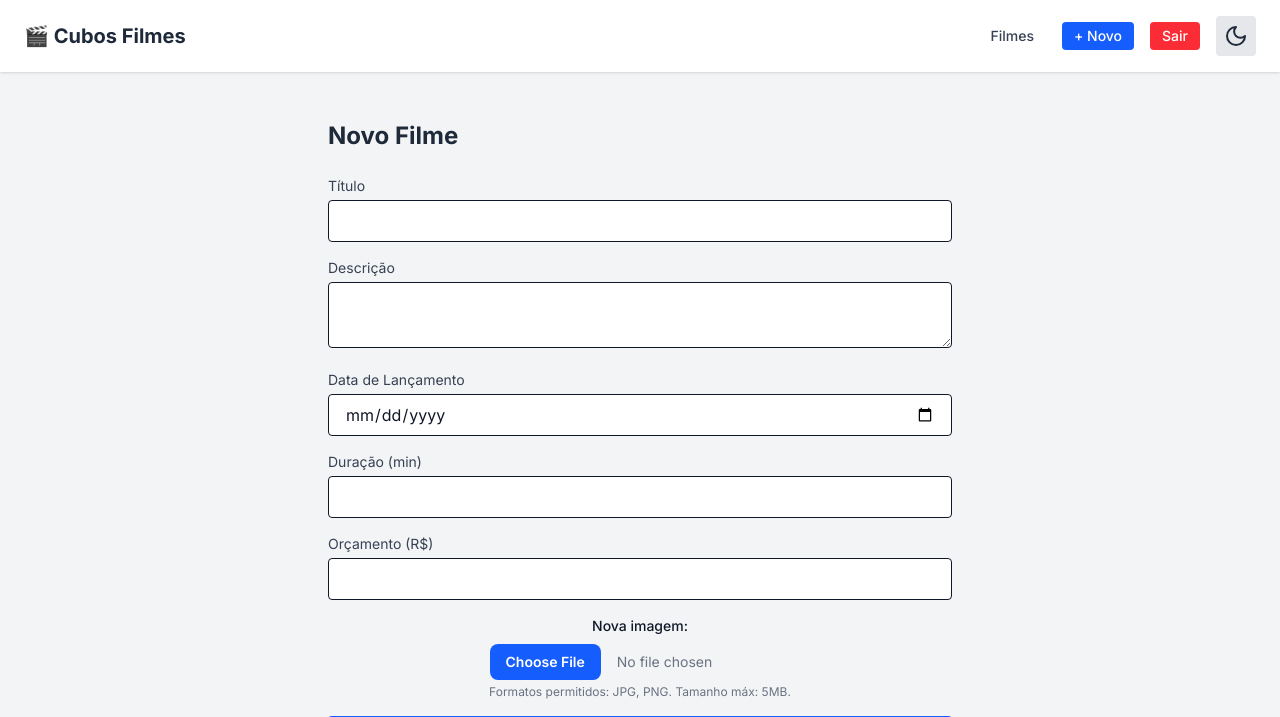
it: New Movie Page › Form Submission › should handle API errors
This screenshot has width=1280, height=717.
# Preenche o formulário
Type "Teste Movie" into the field named "title" at (640, 221), box [328, 200, 952, 242]
Type "Test Description" into the text box named "description" at (640, 315), box [328, 282, 952, 348]
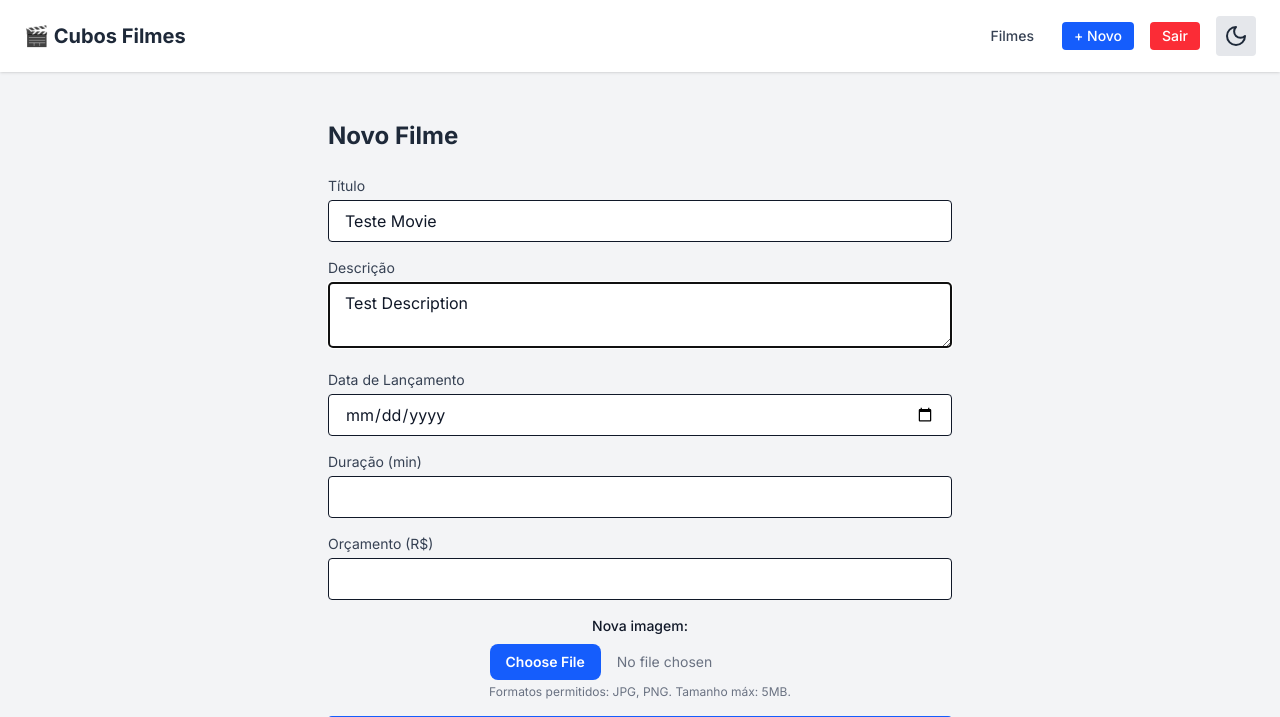
Type "2024-01-01" into the date field at (640, 415), box [328, 394, 952, 436]
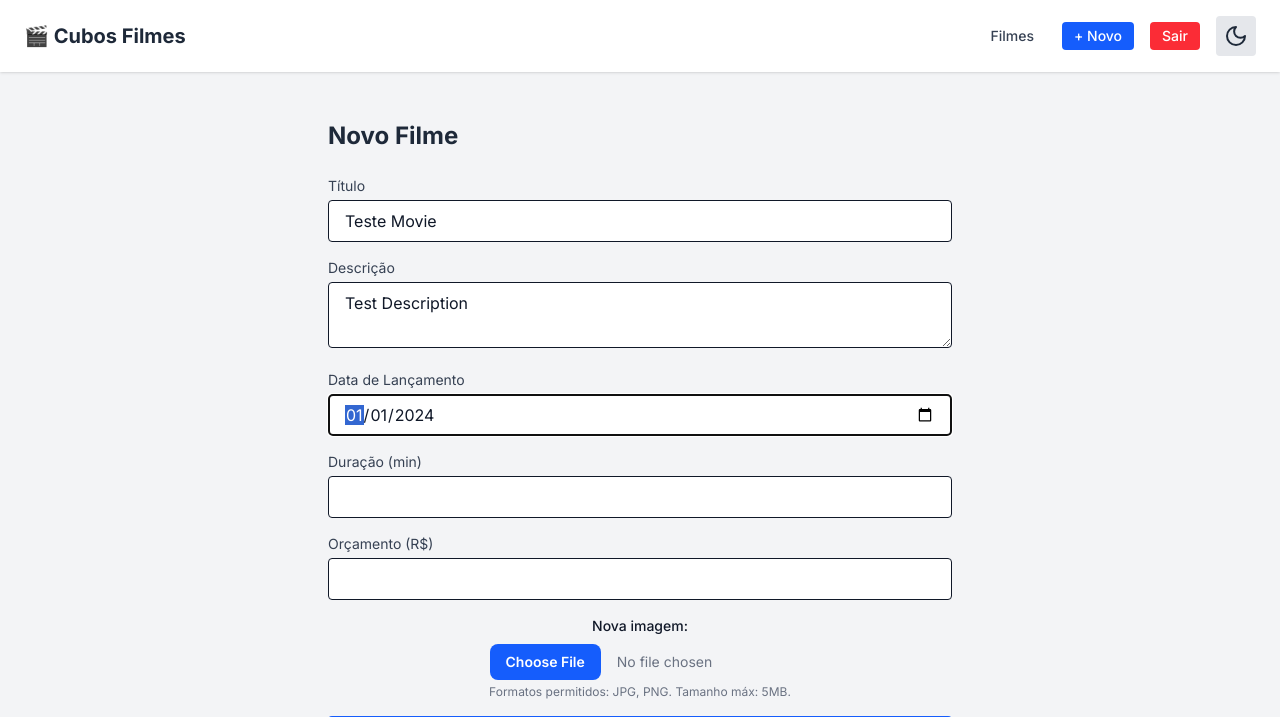
Type "120" into the number field named "duration" below "Duração (min)" at (640, 497), box [328, 476, 952, 518]
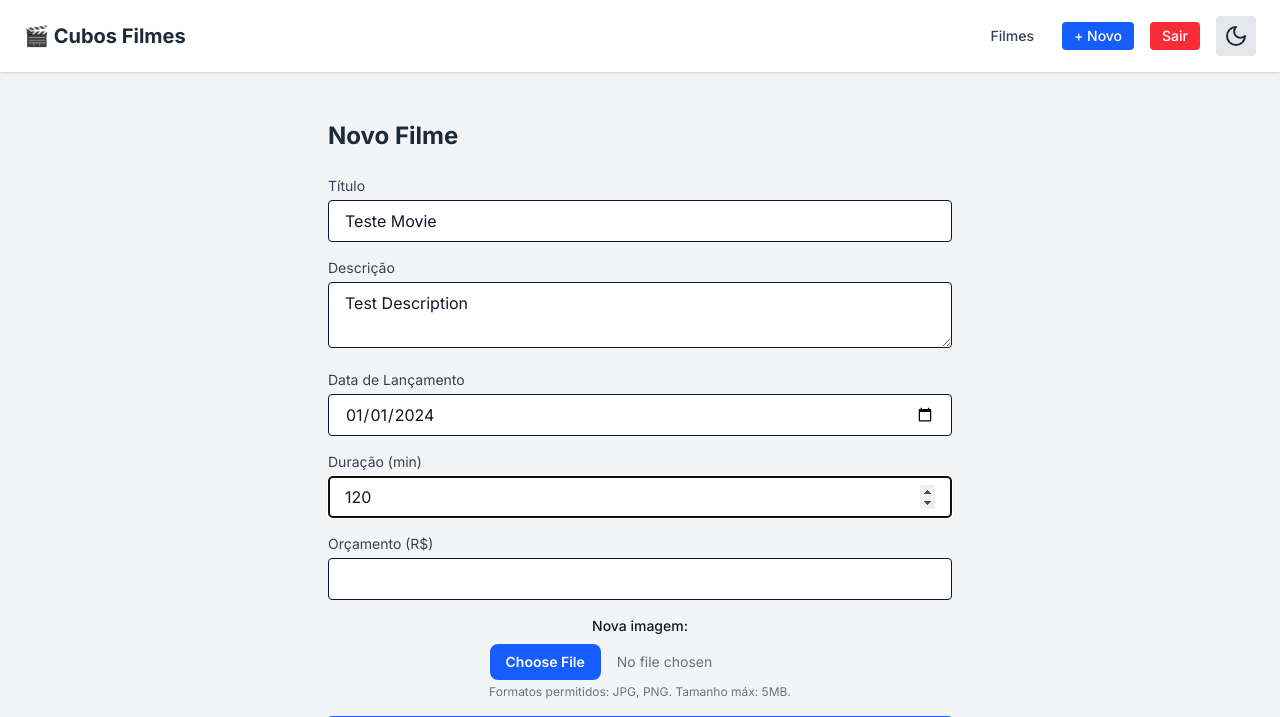
Type "1000000" into the number field named "budget" below "Orçamento (R$)" at (640, 579), box [328, 558, 952, 600]
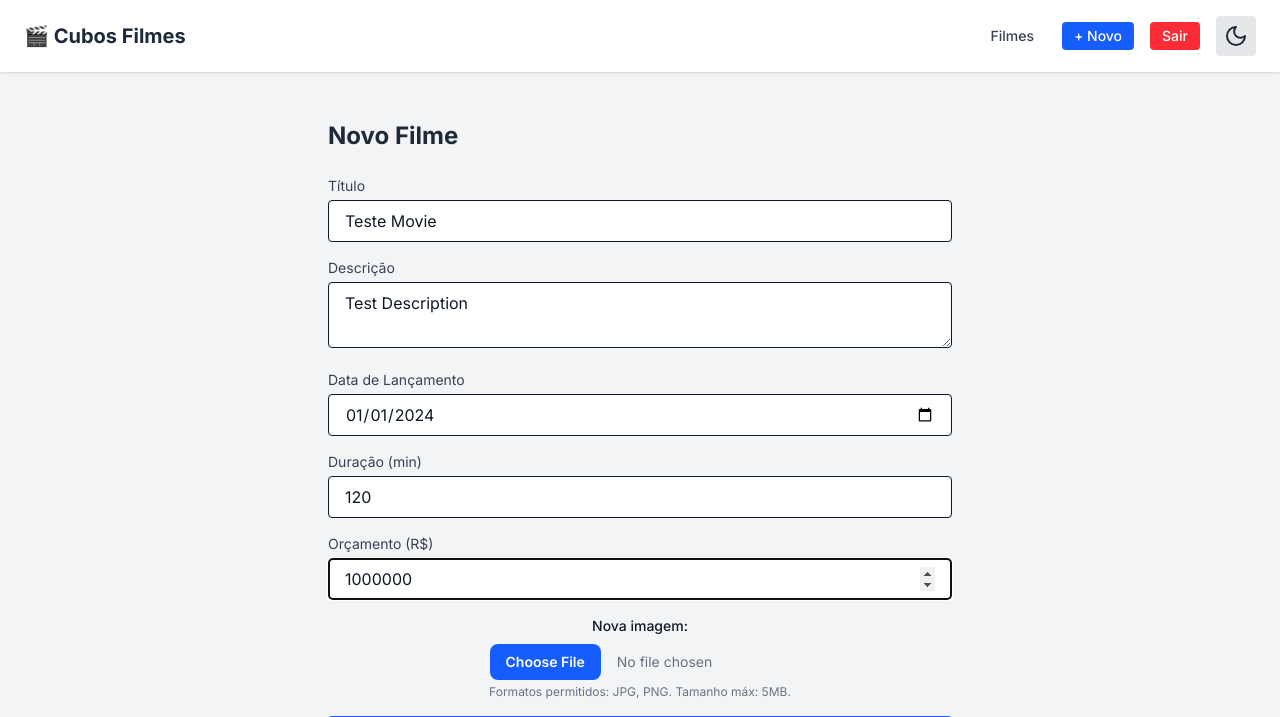
Scroll
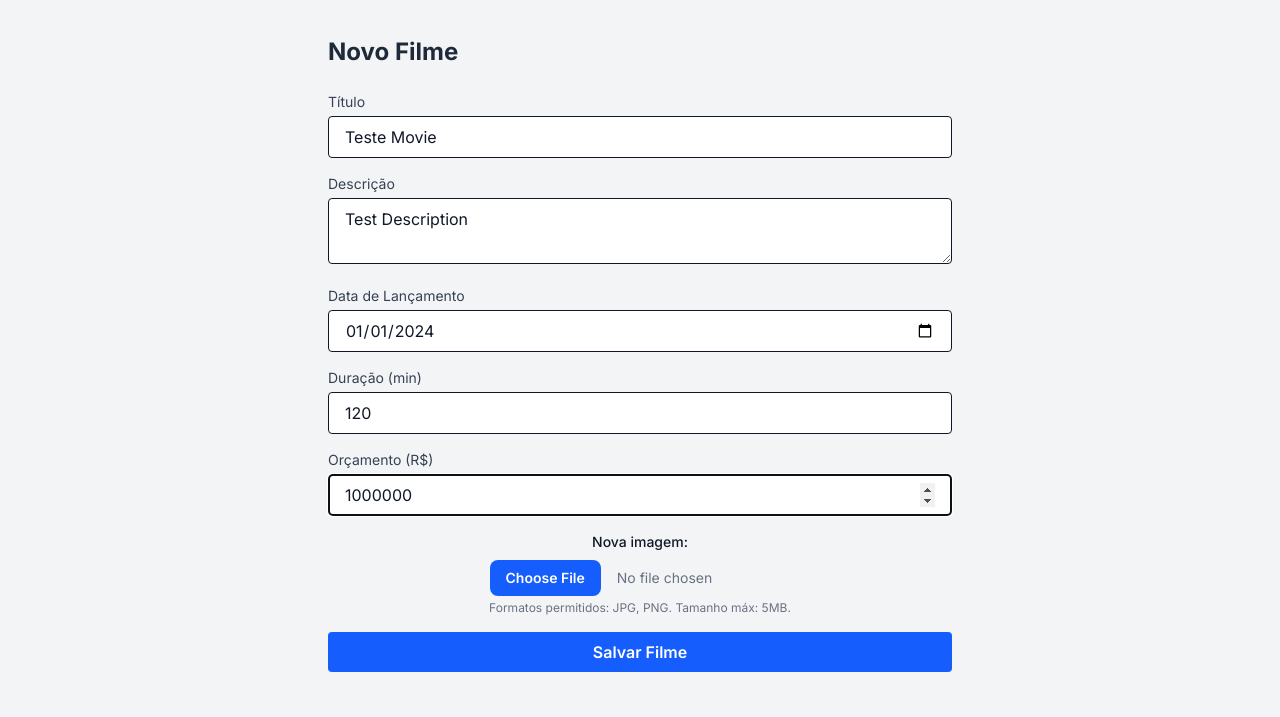
Click the submit button at (640, 652), box [328, 632, 952, 672]
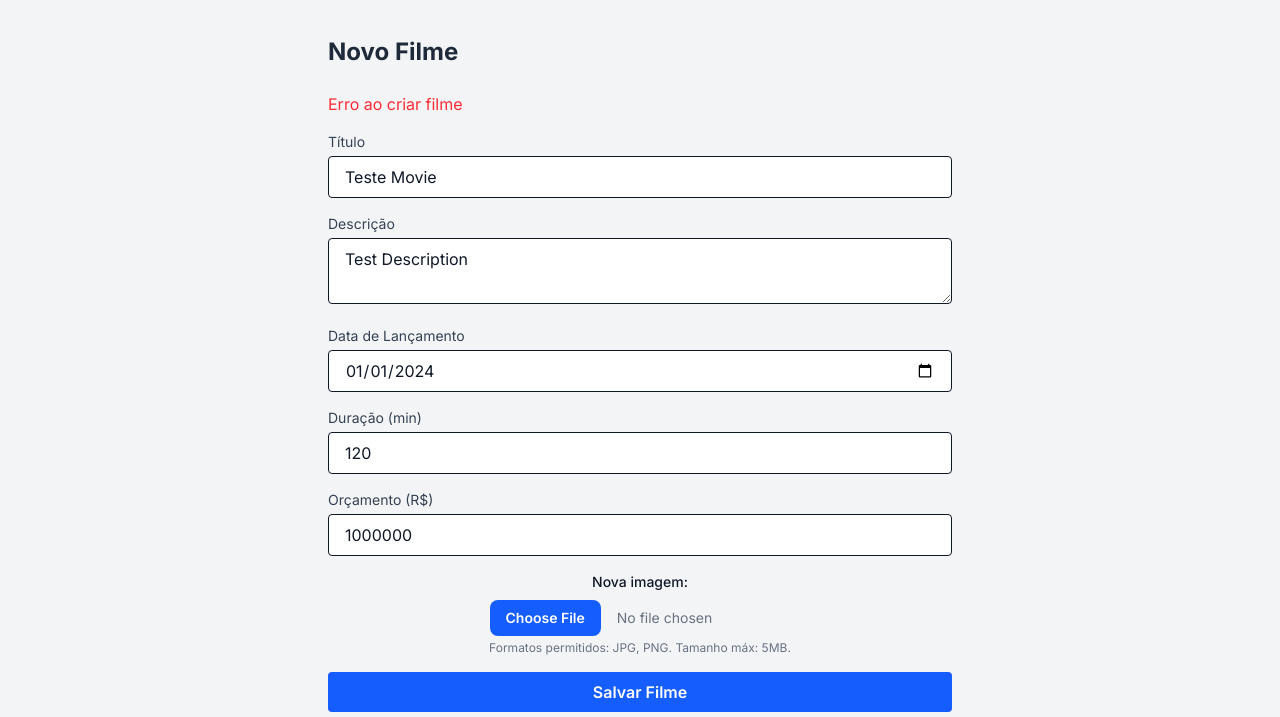
Expected: the text "Erro ao criar filme" is shown, [328, 94, 462, 114]
